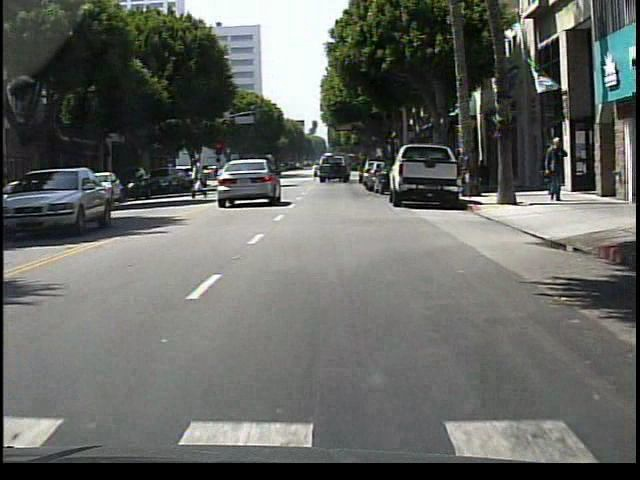person: (543, 135, 567, 202), (540, 145, 556, 199), (190, 156, 209, 200), (313, 161, 321, 183)
